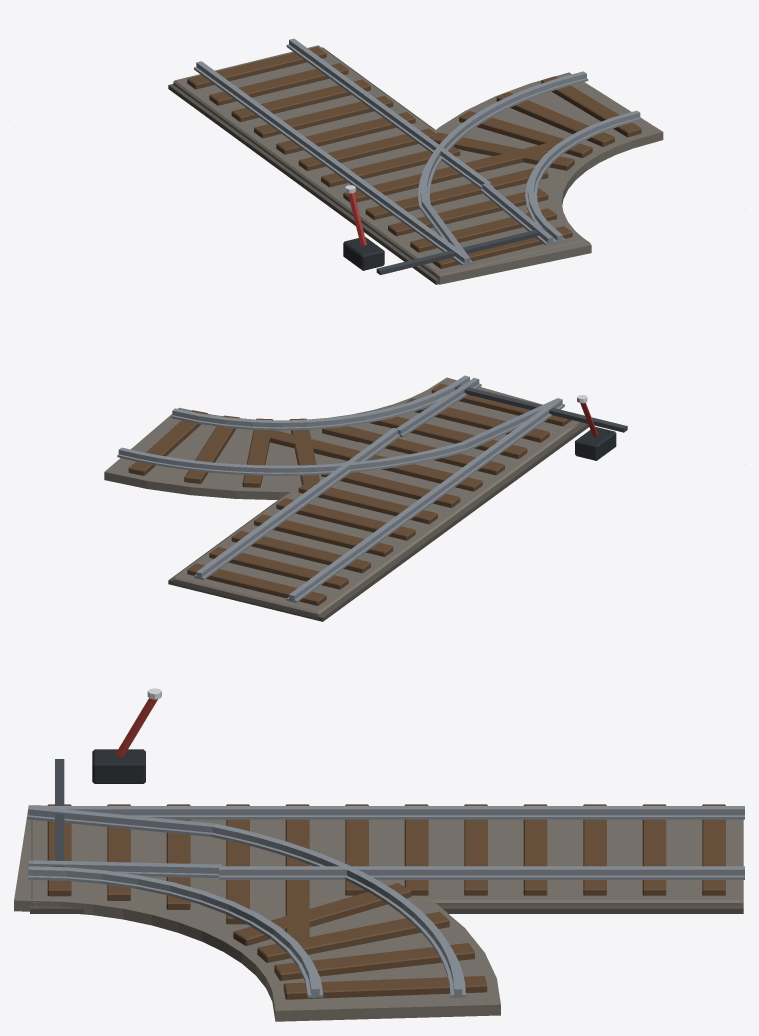
Rendered from rail_aiguillage_d_devie.glb.
3 views of the same model, one above another, from view 1: azimuth 30°, elevation 25°; view 2: azimuth 150°, elevation 25°; view 3: azimuth 270°, elevation 25° (orthographic). The views are drawn at different scales.
Visible parts, largest first — view 1: rail_ballast.016, rail_traverse.018, rail_rail.018, rail_ballast_sombre.010, rail_acier.008, rail_acier_sombre.008, rail_fonte.008; view 2: rail_ballast.016, rail_traverse.018, rail_rail.018, rail_ballast_sombre.010, rail_acier.008, rail_acier_sombre.008, rail_fonte.008; view 3: rail_ballast.016, rail_traverse.018, rail_rail.018, rail_acier.008, rail_ballast_sombre.010, rail_fonte.008, rail_acier_sombre.008, rail_rouge.008.
Boxes of the visible parts, x1,y1,x2,y2 form: rail_ballast.016: (173,45,663,284); rail_traverse.018: (187,46,641,268); rail_rail.018: (194,38,641,265); rail_ballast_sombre.010: (168,47,590,284); rail_acier.008: (419,183,555,264); rail_acier_sombre.008: (376,227,548,274); rail_fonte.008: (343,237,384,270); rail_ballast.016: (104,377,583,618); rail_traverse.018: (128,383,571,605); rail_rail.018: (117,375,564,602); rail_ballast_sombre.010: (168,423,589,621); rail_acier.008: (396,378,563,451); rail_acier_sombre.008: (455,385,627,432); rail_fonte.008: (575,426,616,460); rail_ballast.016: (14,805,743,1021); rail_traverse.018: (47,804,725,999); rail_rail.018: (28,806,744,997); rail_acier.008: (27,806,221,877); rail_ballast_sombre.010: (30,905,743,913); rail_fonte.008: (92,749,145,783); rail_acier_sombre.008: (55,759,64,867); rail_rouge.008: (115,698,157,757).
Bounding box in the file's own units: 3.07 × 0.452 × 3.07.
